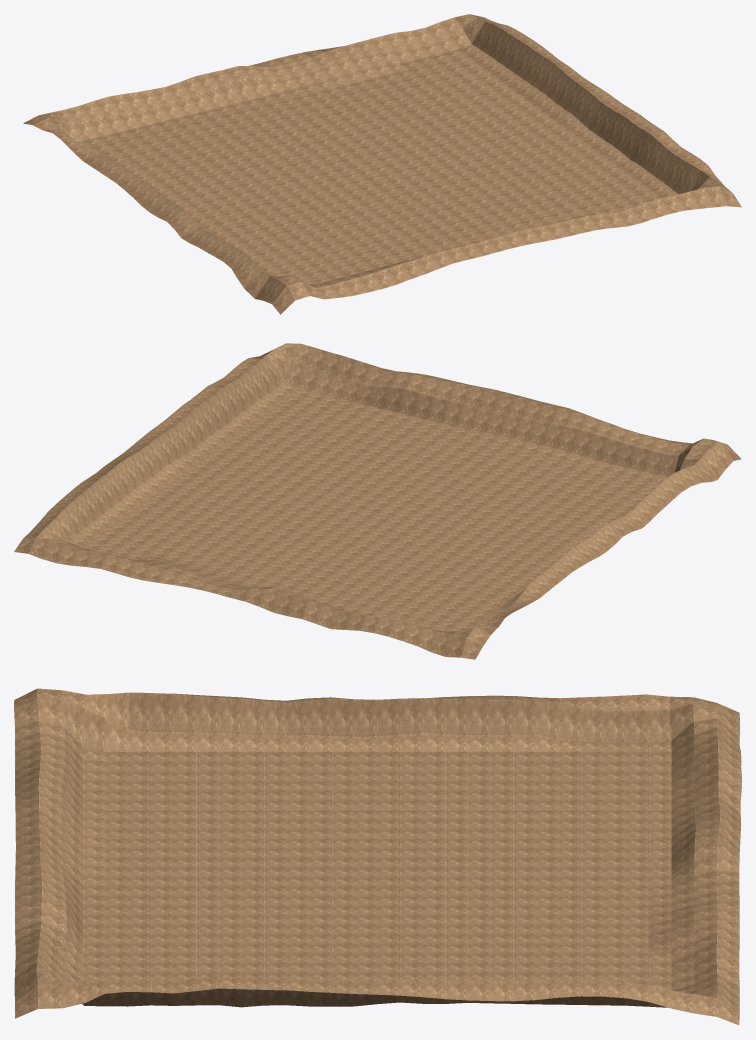
File: pockitworld3flat.glb
3 views of the same model, one above another, from view 1: azimuth 30°, elevation 25°; view 2: azimuth 150°, elevation 25°; view 3: azimuth 270°, elevation 25° (orthographic). The views are drawn at different scales.
Visible parts, largest first — view 1: Plane; view 2: Plane; view 3: Plane.
Part boxes in pixels (box(x1,y1,x2,y2)): Plane: box(23, 14, 741, 314); Plane: box(14, 343, 741, 659); Plane: box(14, 688, 741, 1024).
Bounding box in the file's own units: 32.33 × 2.18 × 32.21.
Materials: 1 (1 with a texture image).
